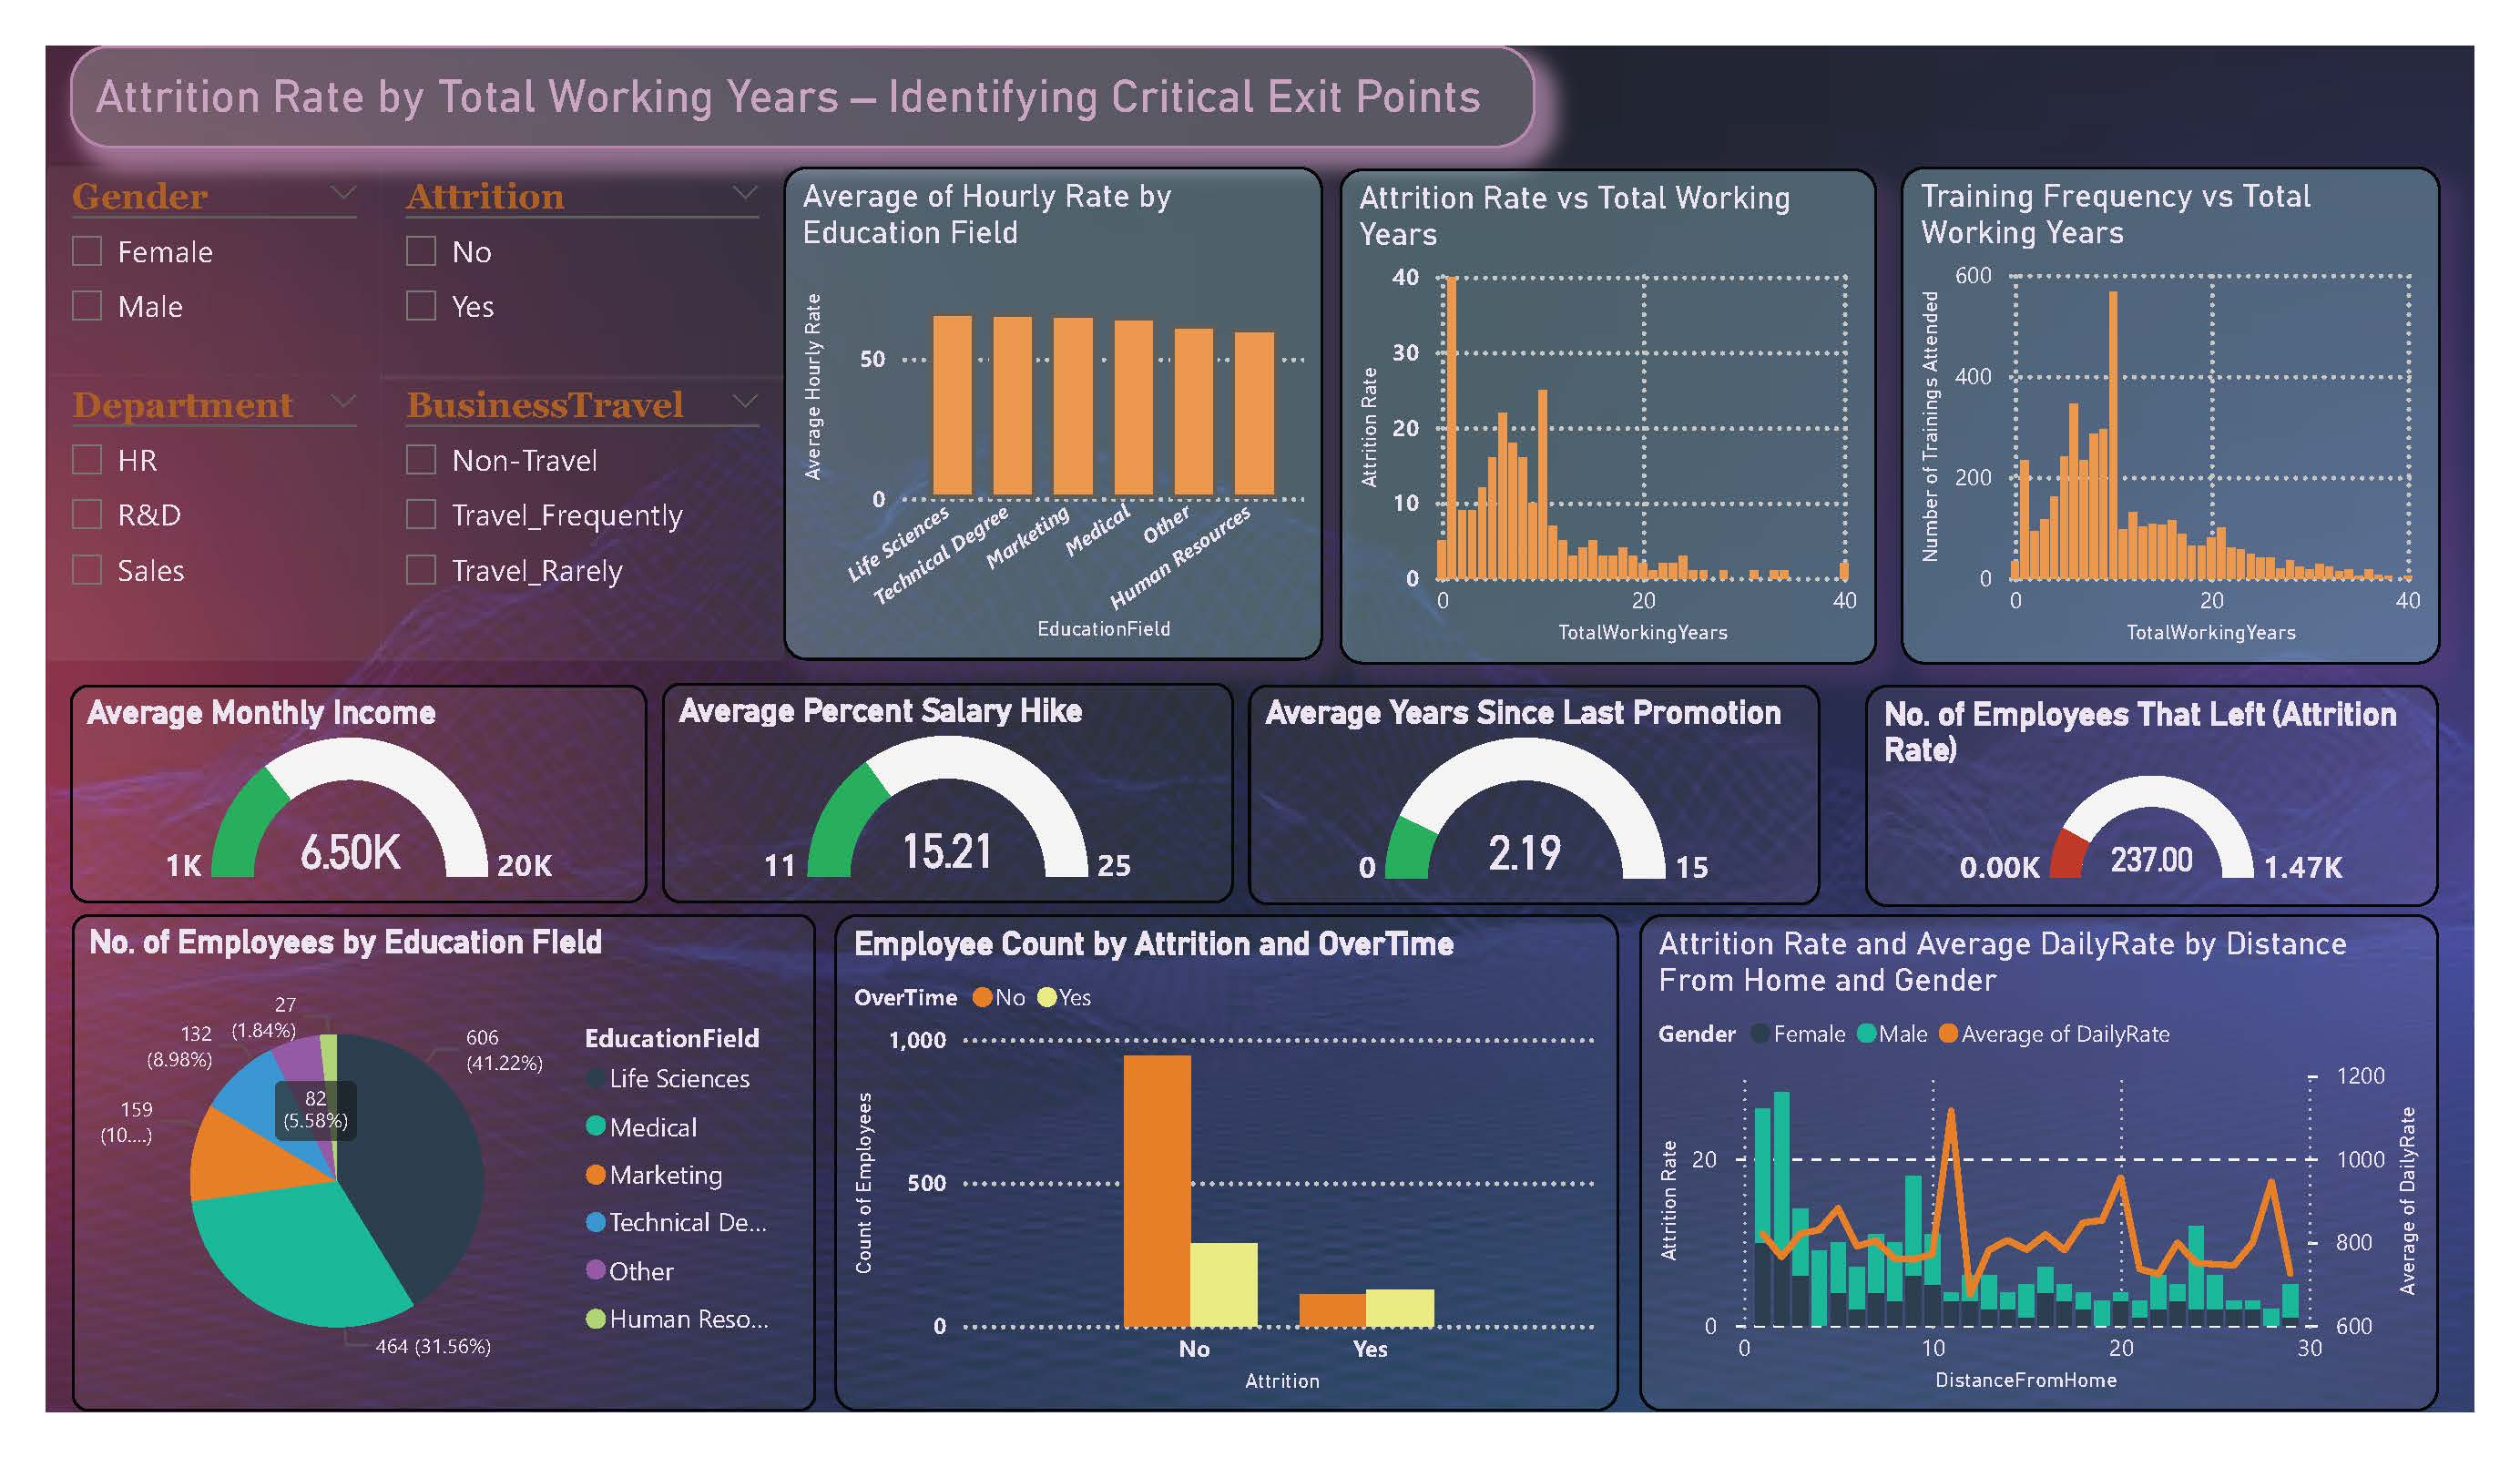

Layout of this report page (visuals, bound fields, positions):
{"tool":"powerbi","page":{"name":"Page 1","canvas":[1280,720],"ordinal":0},"visuals":[{"type":"textbox","box":[13.5,0,771.6,53.8],"z":0},{"type":"columnChart","title":"Average of Hourly Rate by Education Field","fields":{"Category":["Sheet1.EducationField"],"Y":["Avg(Sheet1.HourlyRate)"]},"box":[13.7,63.1,392.5,262.1],"z":1000},{"type":"pieChart","title":"No. of Employees by Education FIeld","fields":{"Category":["Sheet1.EducationField"],"Y":["Sum(Sheet1.EmployeeCount)"]},"box":[13.7,458.3,392.5,262.1],"z":2000},{"type":"clusteredColumnChart","title":"Attrition Rate vs Total Working Years","fields":{"Category":["Sheet1.TotalWorkingYears"],"Y":["Sum(Sheet1.Attrition Rate)"]},"box":[416.2,62.5,400,262.5],"z":3000},{"type":"gauge","title":"Average Monthly Income","fields":{"MinValue":["Min(Sheet1.MonthlyIncome)"],"MaxValue":["Max(Sheet1.MonthlyIncome)1"],"Y":["Avg(Sheet1.MonthlyIncome)2"]},"box":[13.8,333.8,302.5,117.5],"z":4000},{"type":"gauge","title":"Average Percent Salary Hike","fields":{"Y":["Avg(Sheet1.PercentSalaryHike)"],"MinValue":["Min(Sheet1.PercentSalaryHike)1"],"MaxValue":["Max(Sheet1.PercentSalaryHike)2"]},"box":[325.3,336.3,300.8,116.2],"z":5000},{"type":"treemap","title":"Employee Count by Attrition and OverTime","fields":{"Group":["Sheet1.Attrition"],"Details":["Sheet1.OverTime"],"Values":["CountNonNull(Sheet1.Department)"]},"box":[416.2,457.5,270,262.5],"z":6000},{"type":"gauge","title":"Average Years Since Last Promotion","fields":{"Y":["Avg(Sheet1.YearsSinceLastPromotion)"],"MinValue":["Min(Sheet1.YearsSinceLastPromotion)1"],"MaxValue":["Max(Sheet1.YearsSinceLastPromotion)2"]},"box":[634.2,336.7,300.8,115.8],"z":7000},{"type":"columnChart","title":"Training Frequency vs Total Working Years","fields":{"Category":["Sheet1.TotalWorkingYears"],"Y":["Sum(Sheet1.TrainingTimesLastYear)"]},"box":[827.5,62.5,421.2,262.5],"z":8000},{"type":"gauge","title":"No. of Employees That Left (Attrition Rate)","fields":{"Y":["Sum(Sheet1.Attrition Rate)"],"MinValue":["Min(Sheet1.Attrition Rate)"],"MaxValue":["CountNonNull(Sheet1.Attrition Rate)"]},"box":[945,337.5,303.8,116.2],"z":9000},{"type":"lineStackedColumnComboChart","title":"Attrition Rate and Average DailyRate by Distance From Home and Gender","fields":{"Y":["Sum(Sheet1.Attrition Rate)"],"Category":["Sheet1.DistanceFromHome"],"Y2":["Avg(Sheet1.DailyRate)"],"Series":["Sheet1.Gender"]},"box":[840,457.5,421.2,262.5],"z":10000},{"type":"kpi","title":"Job Satisfaction by Involvement","fields":{"Indicator":["Avg(Sheet1.JobSatisfaction)"],"TrendLine":["Sheet1.JobInvolvement"]},"box":[691.5,458.5,141.5,261.5],"z":11000}]}

Visuals, with their boxes on the page's 1280x720 design canvas (x1, y1, x2, y2). These are canvas units, not pixel positions in the 2520x1457 screenshot, which may show the page scaled, cropped or inside an application window:
textbox: bbox=[14, 0, 785, 54]
"Average of Hourly Rate by Education Field" columnChart: bbox=[14, 63, 406, 325]
"No. of Employees by Education FIeld" pieChart: bbox=[14, 458, 406, 720]
"Attrition Rate vs Total Working Years" clusteredColumnChart: bbox=[416, 62, 816, 325]
"Average Monthly Income" gauge: bbox=[14, 334, 316, 451]
"Average Percent Salary Hike" gauge: bbox=[325, 336, 626, 452]
"Employee Count by Attrition and OverTime" treemap: bbox=[416, 458, 686, 720]
"Average Years Since Last Promotion" gauge: bbox=[634, 337, 935, 452]
"Training Frequency vs Total Working Years" columnChart: bbox=[828, 62, 1249, 325]
"No. of Employees That Left (Attrition Rate)" gauge: bbox=[945, 338, 1249, 454]
"Attrition Rate and Average DailyRate by Distance From Home and Gender" lineStackedColumnComboChart: bbox=[840, 458, 1261, 720]
"Job Satisfaction by Involvement" kpi: bbox=[692, 458, 833, 720]
